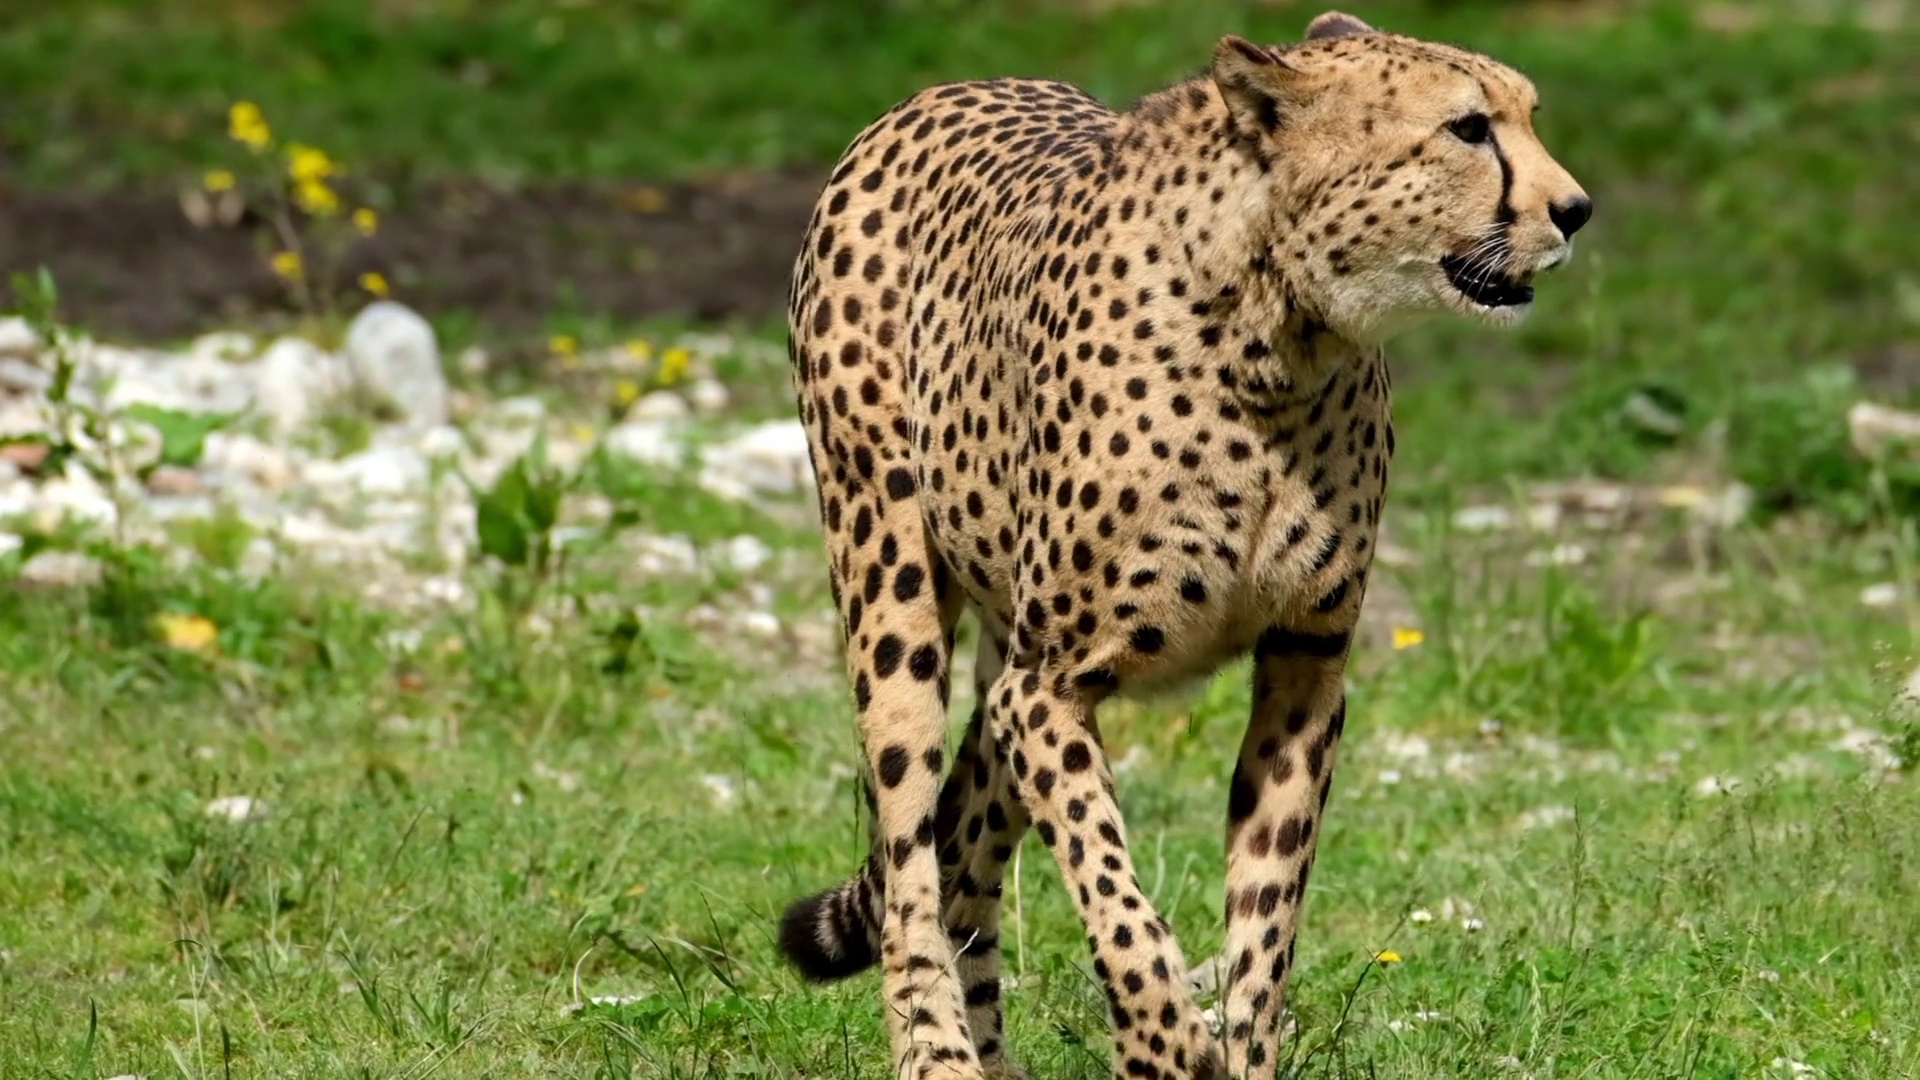Cheetah: (769, 8, 1597, 1065)
